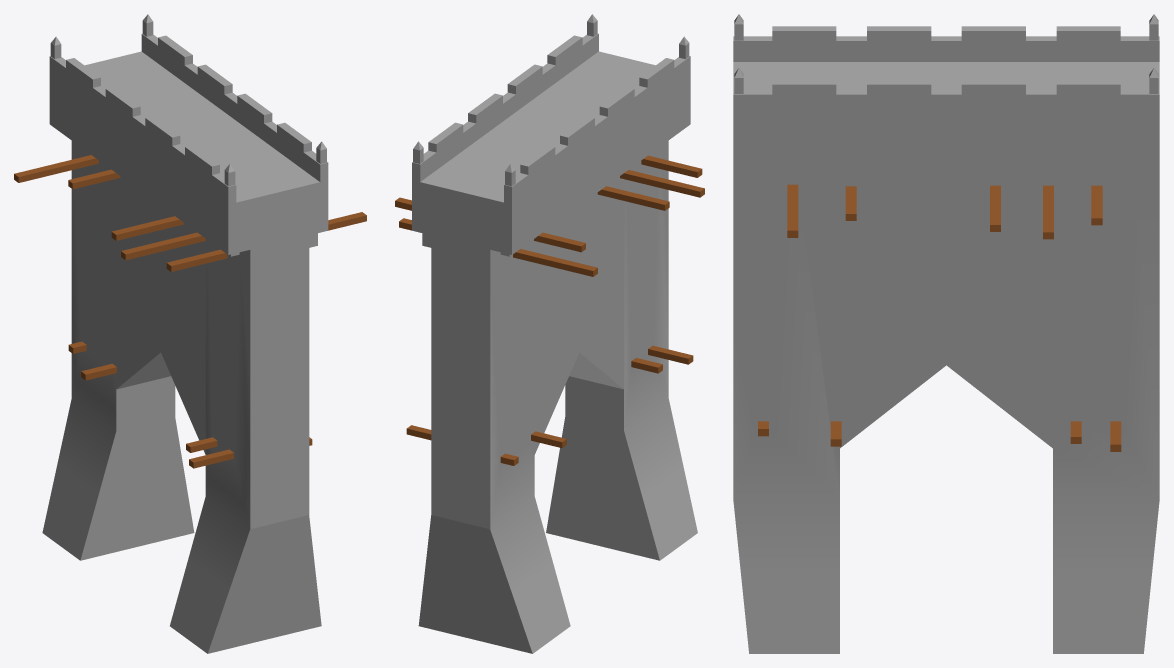
Rendered from Castle_New_Wall_Eastern_Section_02.fbx.
The picture shows the model from 3 angles, left to right: view 1: azimuth 30°, elevation 25°; view 2: azimuth 150°, elevation 25°; view 3: azimuth 270°, elevation 25°; orthographic projection. The views are drawn at different scales.
Visible parts, largest first — view 1: Model; view 2: Model; view 3: Model.
Boxes of the visible parts, left/top/right/bottom form: Model: left=14, top=14, right=366, bottom=653; Model: left=395, top=14, right=704, bottom=653; Model: left=733, top=14, right=1159, bottom=653.
Size of the model in its own units: 919 by 1956 by 1295.
